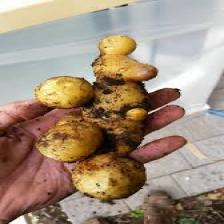Damaged potato: (45, 31, 169, 198), (22, 203, 77, 224)
